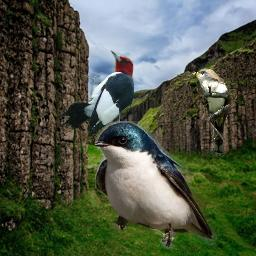Cuckoo: (189, 68, 232, 157)
Swallow: (95, 121, 216, 249)
Woodpecker: (58, 50, 134, 137)
